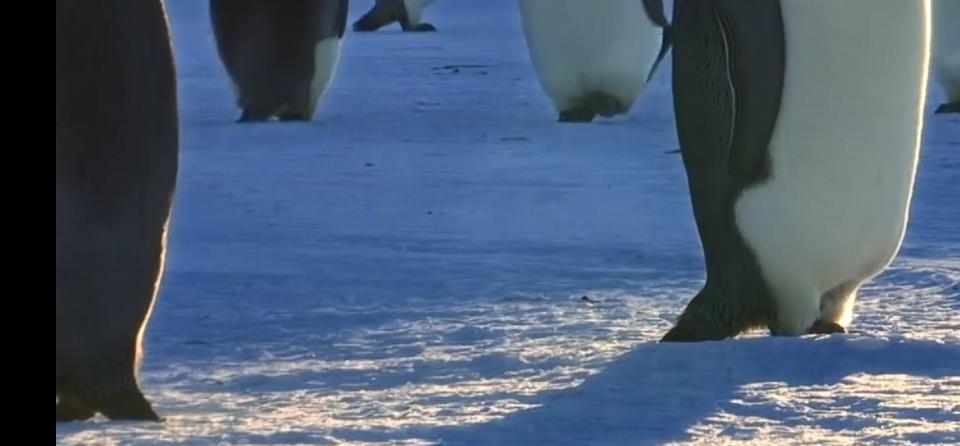Emperor Penguin: (663, 0, 945, 333), (184, 0, 358, 142), (500, 0, 661, 123), (892, 0, 960, 132), (348, 0, 460, 60)
